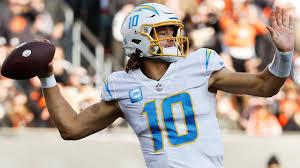americanFootball: (0, 40, 53, 81)
